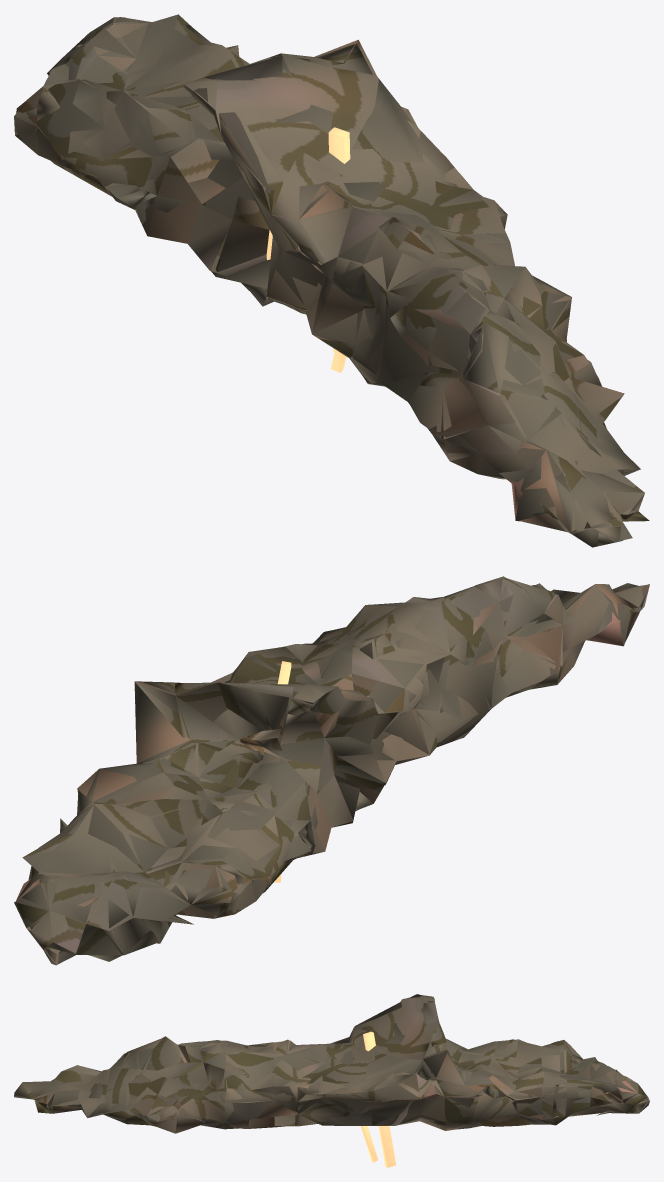
File: helios_rock_b.glb
3 views of the same model, one above another, from view 1: azimuth 30°, elevation 25°; view 2: azimuth 150°, elevation 25°; view 3: azimuth 270°, elevation 25° (orthographic). The views are drawn at different scales.
Parts seen in each view (by area): view 1: LOD0_Merged_Material_Rock, LOD2_Merged_Material_Rock, LOD1_Merged_Material_Rock, LOD0_Merged_Material_Warm; view 2: LOD0_Merged_Material_Rock, LOD2_Merged_Material_Rock, LOD1_Merged_Material_Rock; view 3: LOD0_Merged_Material_Rock, LOD2_Merged_Material_Rock, LOD1_Merged_Material_Rock, LOD0_Merged_Material_Warm.
Boxes of the visible parts, x1,y1,x2,y2 form: LOD0_Merged_Material_Rock: [14, 14, 644, 547]; LOD2_Merged_Material_Rock: [16, 17, 643, 546]; LOD1_Merged_Material_Rock: [14, 23, 649, 534]; LOD0_Merged_Material_Warm: [266, 127, 350, 372]; LOD0_Merged_Material_Rock: [14, 576, 649, 965]; LOD2_Merged_Material_Rock: [16, 578, 649, 964]; LOD1_Merged_Material_Rock: [20, 578, 646, 963]; LOD0_Merged_Material_Rock: [14, 995, 649, 1133]; LOD2_Merged_Material_Rock: [16, 994, 648, 1133]; LOD1_Merged_Material_Rock: [34, 999, 649, 1128]; LOD0_Merged_Material_Warm: [361, 1031, 395, 1167].
Bounding box in the file's own units: 4.74 × 5.04 × 20.21.
Materials: 2 (2 with a texture image).
